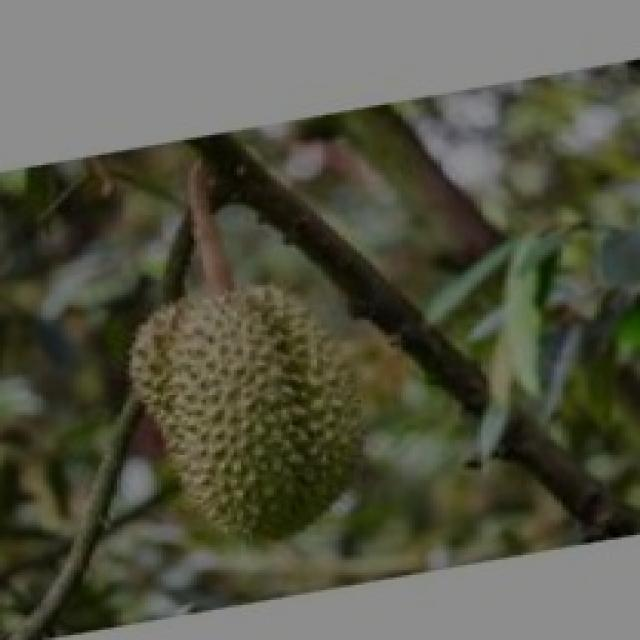fruit: (99, 238, 412, 570)
